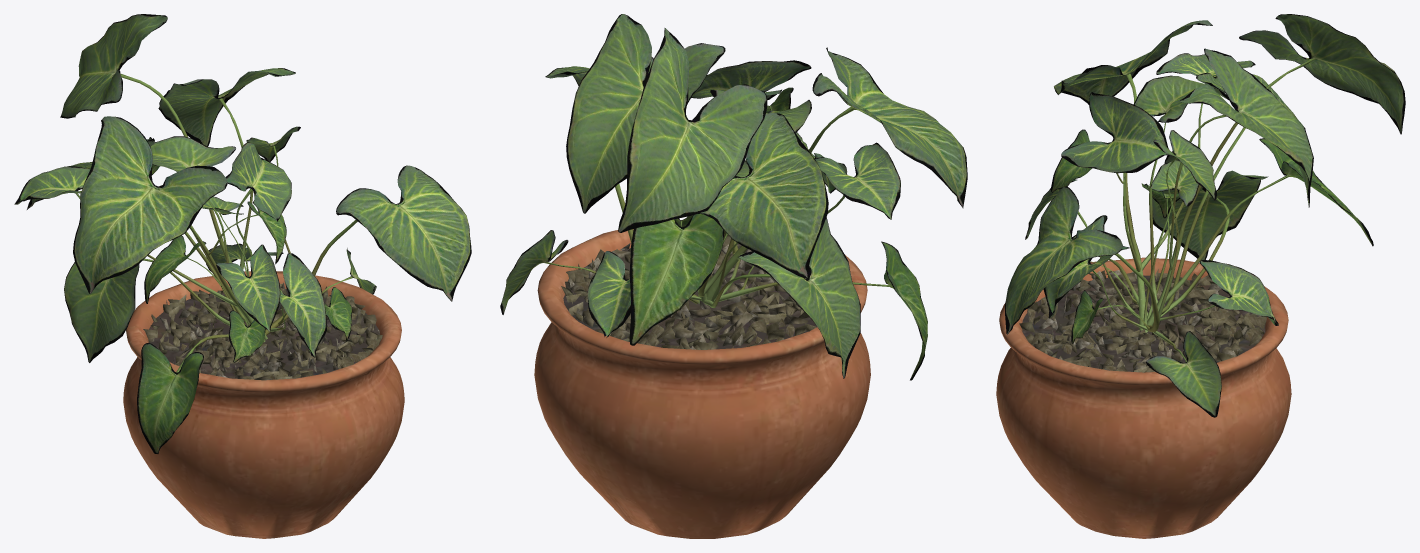
Rendered from potted_plant_02.lite.glb.
3 views of the same model, side by side, from view 1: azimuth 30°, elevation 25°; view 2: azimuth 150°, elevation 25°; view 3: azimuth 270°, elevation 25° (orthographic). The views are drawn at different scales.
Visible parts, largest first — view 1: potted_plant_02_leaves, potted_plant_02_pot; view 2: potted_plant_02_leaves, potted_plant_02_pot; view 3: potted_plant_02_pot, potted_plant_02_leaves.
Boxes of the visible parts, <box> form: potted_plant_02_leaves: <box>14,14,471,453</box>; potted_plant_02_pot: <box>123,271,404,538</box>; potted_plant_02_leaves: <box>500,14,967,380</box>; potted_plant_02_pot: <box>534,229,870,538</box>; potted_plant_02_pot: <box>996,257,1291,538</box>; potted_plant_02_leaves: <box>1005,14,1405,417</box>.
Bounding box in the file's own units: 0.7009 × 0.8411 × 0.6574.
Materials: 2 (2 with a texture image).
